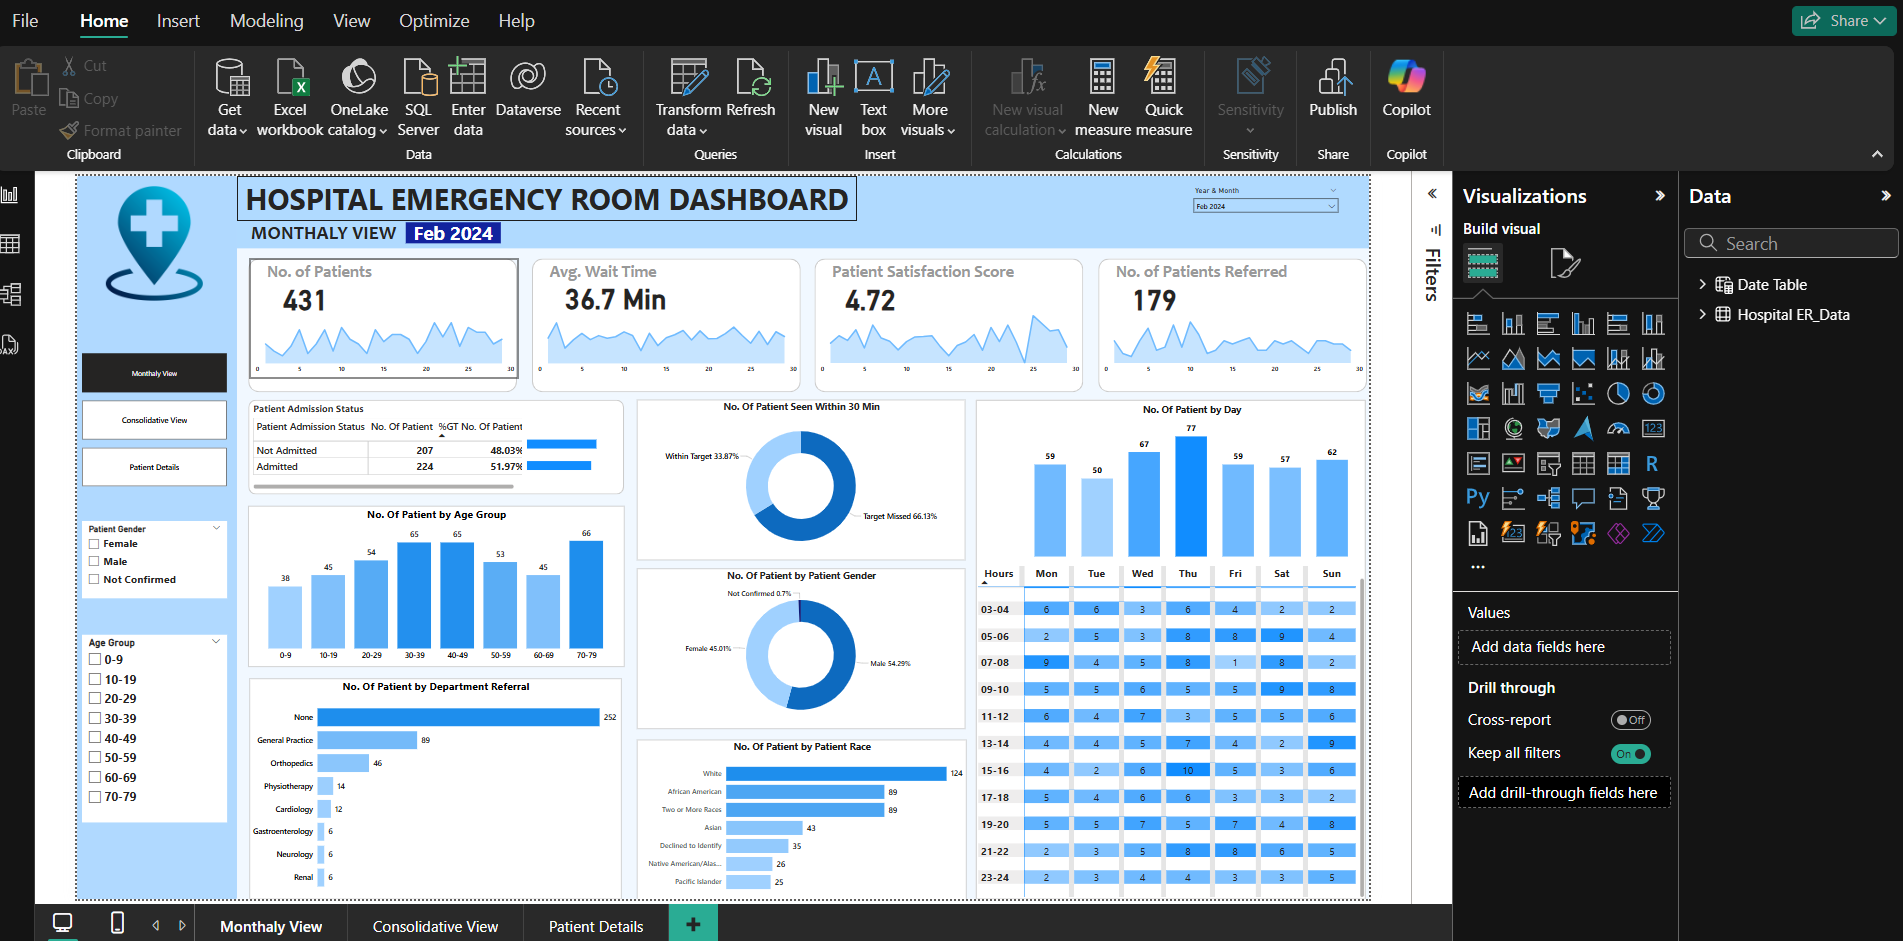

What the dashboard file says about the page in this screenshot:
{"tool":"powerbi","page":{"name":"Monthaly View","canvas":[2500,1400],"ordinal":0},"visuals":[{"type":"shape","box":[331.4,159.6,520,258.8],"z":0},{"type":"card","fields":{"Values":["Date Table.Avg wait time"]},"box":[889,191.9,304.8,79.8],"z":0,"group":"g1"},{"type":"card","fields":{"Values":["Hospital ER_Data.No Of Patient"]},"box":[355.8,195.3,173.3,75],"z":0,"group":"g4"},{"type":"card","fields":{"Values":["Avg(Hospital ER_Data.Patient Satisfaction Score)"]},"box":[1449.1,195.3,173.3,75],"z":0,"group":"g3"},{"type":"card","fields":{"Values":["CountNonNull(Hospital ER_Data.Department Referral)"]},"box":[1998.2,195.3,173.3,75],"z":0,"group":"g2"},{"type":"shape","box":[0,0,309.6,1400.5],"z":1000},{"type":"textbox","box":[362.7,159.6,433.3,58.1],"z":1000,"group":"g4"},{"type":"textbox","box":[909.3,159.6,433.3,58.1],"z":1000,"group":"g1"},{"type":"textbox","box":[1456,159.6,433.3,58.1],"z":1000,"group":"g3"},{"type":"textbox","box":[2005.1,159.6,433.3,58.1],"z":1000,"group":"g2"},{"type":"shape","box":[309.6,0,2191.4,140.3],"z":2000},{"type":"areaChart","fields":{"Category":["Date Table.Date.Variation.Date Hierarchy.Day"],"Y":["Hospital ER_Data.No Of Patient"]},"box":[333.8,256.4,520,135.5],"z":2000,"group":"g4"},{"type":"areaChart","fields":{"Category":["Date Table.Date.Variation.Date Hierarchy.Day"],"Y":["Avg(Hospital ER_Data.Patient Waittime)"]},"box":[880.4,256.4,520,135.5],"z":2000,"group":"g1"},{"type":"areaChart","fields":{"Category":["Date Table.Date.Variation.Date Hierarchy.Day"],"Y":["Avg(Hospital ER_Data.Patient Satisfaction Score)"]},"box":[1427.1,256.4,520,135.5],"z":2000,"group":"g3"},{"type":"areaChart","fields":{"Category":["Date Table.Date.Variation.Date Hierarchy.Day"],"Y":["CountNonNull(Hospital ER_Data.Department Referral)"]},"box":[1976.2,256.4,520,135.5],"z":2000,"group":"g2"},{"type":"textbox","box":[309.6,0,1199.7,87.1],"z":3000},{"type":"textbox","box":[331.4,82.2,362.8,58.1],"z":4000},{"type":"card","fields":{"Values":["Min(Date Table.Year & Month)"]},"box":[636.1,89.5,183.8,41.1],"z":5000},{"type":"shape","box":[1976.2,160.2,520,258.8],"z":6000},{"type":"shape","box":[1427.9,160.2,520,258.8],"z":7000},{"type":"shape","box":[879.6,160.2,520,258.8],"z":8000},{"type":"group","id":"g1","title":"Group 1","box":[880.4,159.6,520,232.2],"z":9000},{"type":"group","id":"g2","title":"Group 1","box":[1976.2,159.6,520,232.2],"z":10000},{"type":"group","id":"g3","title":"Group 1","box":[1427.1,159.6,520,232.2],"z":11000},{"type":"group","id":"g4","title":"Group 1","box":[333.8,159.6,520,232.2],"z":12000},{"type":"shape","box":[330.6,433.3,727.8,183.3],"z":13000},{"type":"group","id":"g5","title":"Group 2","box":[336.1,438.9,719.4,172.2],"z":14000},{"type":"columnChart","fields":{"Category":["Hospital ER_Data.Age Group"],"Y":["Hospital ER_Data.No Of Patient"]},"box":[330.6,638.9,727.8,311.1],"z":15000},{"type":"pivotTable","title":"Patient Admission Status","fields":{"Rows":["Hospital ER_Data.Patient Admission Status"],"Values":["Hospital ER_Data.No Of Patient1","Hospital ER_Data.No Of Patient"]},"box":[336.1,438.9,530,172.7],"z":16000,"group":"g5"},{"type":"clusteredBarChart","fields":{"Category":["Hospital ER_Data.Department Referral"],"Y":["Hospital ER_Data.No Of Patient"]},"box":[335,972.5,720,427.5],"z":16000},{"type":"shape","box":[1740,432.5,755,967.5],"z":17000},{"type":"barChart","fields":{"Category":["Hospital ER_Data.Patient Admission Status"],"Y":["Hospital ER_Data.No Of Patient"]},"box":[866.1,477.5,190,121.8],"z":17000,"group":"g5"},{"type":"donutChart","fields":{"Category":["Hospital ER_Data.Patient Gender"],"Y":["Hospital ER_Data.No Of Patient"]},"box":[1082.5,760,635,310],"z":18000},{"type":"donutChart","title":"No. Of Patient Seen Within 30 Min","fields":{"Category":["Hospital ER_Data.Patient Seen"],"Y":["Hospital ER_Data.No Of Patient"]},"box":[1082.5,432.5,635,310],"z":19000},{"type":"clusteredBarChart","fields":{"Category":["Hospital ER_Data.Patient Race"],"Y":["Hospital ER_Data.No. Of Patient"]},"box":[1082.5,1090,637.5,310],"z":20000},{"type":"pivotTable","fields":{"Rows":["Hospital ER_Data.Hr Group"],"Columns":["Hospital ER_Data.Day"],"Values":["Hospital ER_Data.No. Of Patient"]},"box":[1739.1,749.8,757.1,650.7],"z":21000},{"type":"columnChart","fields":{"Category":["Hospital ER_Data.Day"],"Y":["Hospital ER_Data.No. Of Patient"]},"box":[1848,437.8,619.2,304.8],"z":22000},{"type":"slicer","fields":{"Values":["Date Table.Year & Month"]},"box":[2150,15,300,110],"z":23000},{"type":"image","box":[0,14.5,299.9,232.2],"z":24000},{"type":"pageNavigator","box":[10,342.5,280,257.5],"z":25000},{"type":"slicer","fields":{"Values":["Hospital ER_Data.Patient Gender"]},"box":[9.7,667.6,280.6,150],"z":25001},{"type":"slicer","fields":{"Values":["Hospital ER_Data.Age Group"]},"box":[9.7,887.7,280.6,362.8],"z":25002}]}

Visuals, with their boxes on the page's 2500x1400 design canvas (x1, y1, x2, y2). These are canvas units, not pixel positions in the 1903x941 screenshot, which may show the page scaled, cropped or inside an application window:
shape: [331, 160, 851, 418]
card - Date Table.Avg wait time: [889, 192, 1194, 272]
card - Hospital ER_Data.No Of Patient: [356, 195, 529, 270]
card - Avg(Hospital ER_Data.Patient Satisfaction Score): [1449, 195, 1622, 270]
card - CountNonNull(Hospital ER_Data.Department Referral): [1998, 195, 2172, 270]
shape: [0, 0, 310, 1400]
textbox: [363, 160, 796, 218]
textbox: [909, 160, 1343, 218]
textbox: [1456, 160, 1889, 218]
textbox: [2005, 160, 2438, 218]
shape: [310, 0, 2501, 140]
areaChart - Date Table.Date.Variation.Date Hierarchy.Day x Hospital ER_Data.No Of Patient: [334, 256, 854, 392]
areaChart - Date Table.Date.Variation.Date Hierarchy.Day x Avg(Hospital ER_Data.Patient Waittime): [880, 256, 1400, 392]
areaChart - Date Table.Date.Variation.Date Hierarchy.Day x Avg(Hospital ER_Data.Patient Satisfaction Score): [1427, 256, 1947, 392]
areaChart - Date Table.Date.Variation.Date Hierarchy.Day x CountNonNull(Hospital ER_Data.Department Referral): [1976, 256, 2496, 392]
textbox: [310, 0, 1509, 87]
textbox: [331, 82, 694, 140]
card - Min(Date Table.Year & Month): [636, 90, 820, 131]
shape: [1976, 160, 2496, 419]
shape: [1428, 160, 1948, 419]
shape: [880, 160, 1400, 419]
"Group 1" group: [880, 160, 1400, 392]
"Group 1" group: [1976, 160, 2496, 392]
"Group 1" group: [1427, 160, 1947, 392]
"Group 1" group: [334, 160, 854, 392]
shape: [331, 433, 1058, 617]
"Group 2" group: [336, 439, 1056, 611]
columnChart - Hospital ER_Data.Age Group x Hospital ER_Data.No Of Patient: [331, 639, 1058, 950]
"Patient Admission Status" pivotTable: [336, 439, 866, 612]
clusteredBarChart - Hospital ER_Data.Department Referral x Hospital ER_Data.No Of Patient: [335, 972, 1055, 1400]
shape: [1740, 432, 2495, 1400]
barChart - Hospital ER_Data.Patient Admission Status x Hospital ER_Data.No Of Patient: [866, 478, 1056, 599]
donutChart - Hospital ER_Data.Patient Gender x Hospital ER_Data.No Of Patient: [1082, 760, 1718, 1070]
"No. Of Patient Seen Within 30 Min" donutChart: [1082, 432, 1718, 742]
clusteredBarChart - Hospital ER_Data.Patient Race x Hospital ER_Data.No. Of Patient: [1082, 1090, 1720, 1400]
pivotTable - Hospital ER_Data.Hr Group x Hospital ER_Data.Day: [1739, 750, 2496, 1400]
columnChart - Hospital ER_Data.Day x Hospital ER_Data.No. Of Patient: [1848, 438, 2467, 743]
slicer - Date Table.Year & Month: [2150, 15, 2450, 125]
image: [0, 14, 300, 247]
pageNavigator: [10, 342, 290, 600]
slicer - Hospital ER_Data.Patient Gender: [10, 668, 290, 818]
slicer - Hospital ER_Data.Age Group: [10, 888, 290, 1250]
